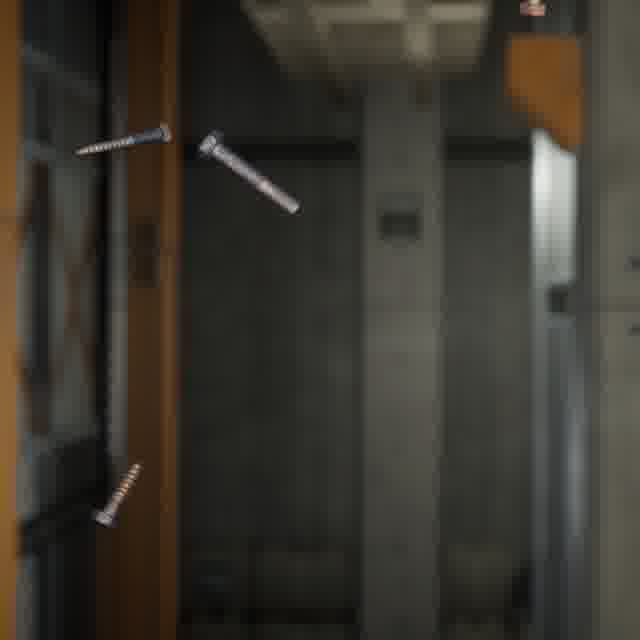bolt: (192, 125, 304, 220), (86, 458, 147, 534), (70, 118, 176, 160)
